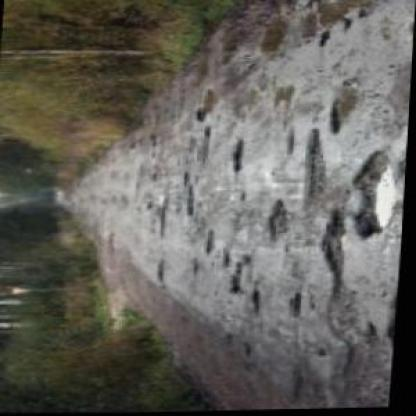pothole: (338, 317, 398, 408), (346, 145, 400, 240), (301, 128, 330, 219), (326, 79, 367, 136), (269, 197, 293, 244), (196, 87, 216, 121), (230, 262, 251, 294), (290, 291, 310, 319), (182, 184, 199, 216), (233, 138, 248, 174), (251, 286, 269, 313)
